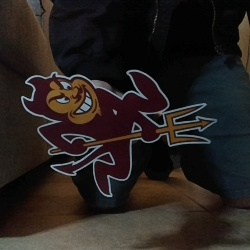sparky: (19, 68, 217, 197)
